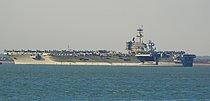MIL_Ship: (4, 24, 196, 68)
